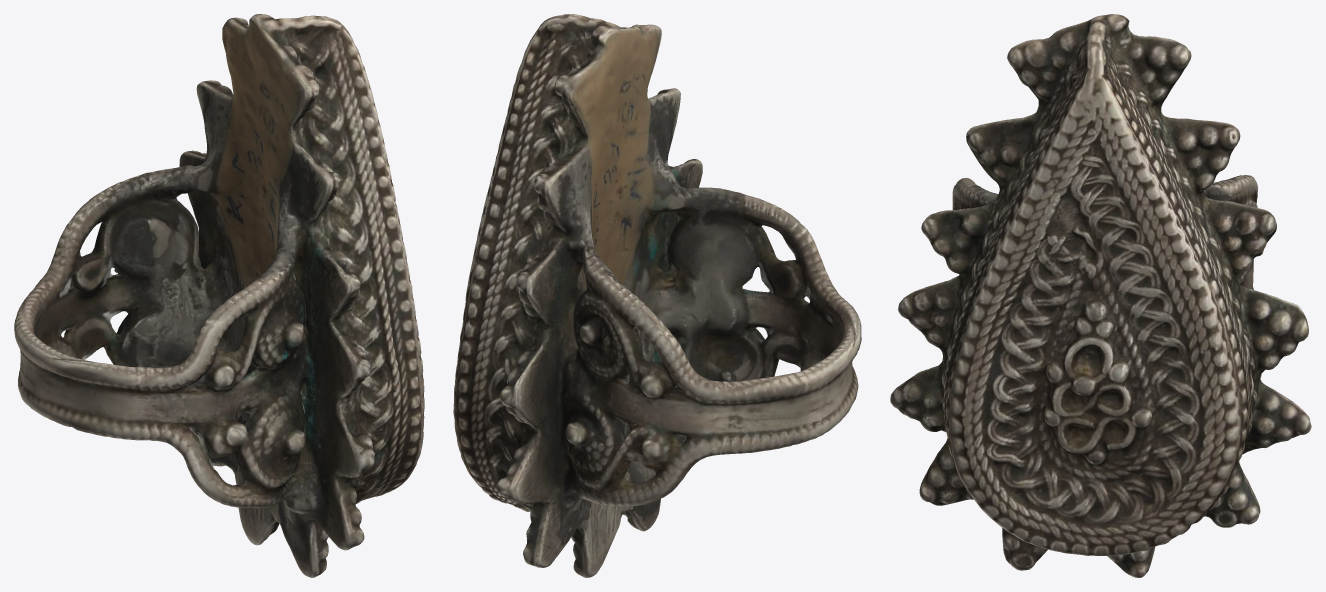
Rendered from perstenj.glb.
3 renders of one model, left to right at view 1: azimuth 30°, elevation 25°; view 2: azimuth 150°, elevation 25°; view 3: azimuth 270°, elevation 25°, orthographic. The views are drawn at different scales.
Parts seen in each view (by area): view 1: Polygon Reduction; view 2: Polygon Reduction; view 3: Polygon Reduction.
Part boxes in pixels (left/top/right/bottom): Polygon Reduction: left=14, top=14, right=424, bottom=577; Polygon Reduction: left=453, top=14, right=861, bottom=577; Polygon Reduction: left=890, top=14, right=1311, bottom=577.
Size of the model in its own units: 159 by 242 by 165.
Materials: 1 (1 with a texture image).
